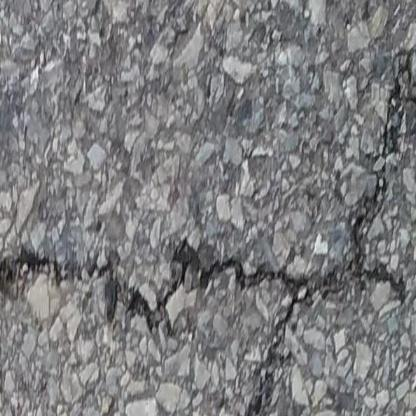Cracks: (227, 49, 416, 416), (0, 245, 226, 329)
